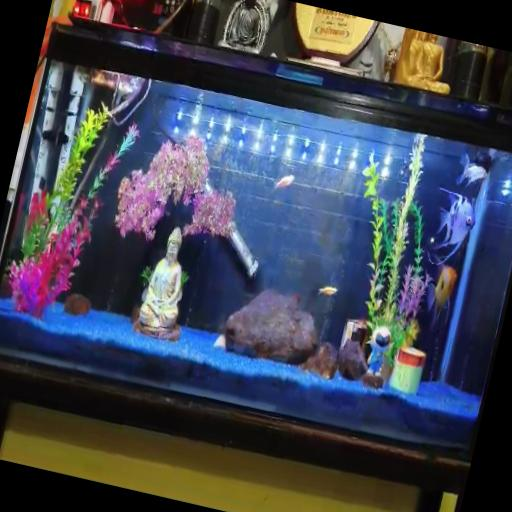Fish: (430, 188, 474, 264), (426, 265, 456, 325), (456, 153, 486, 186), (274, 175, 293, 189), (317, 286, 336, 296)
